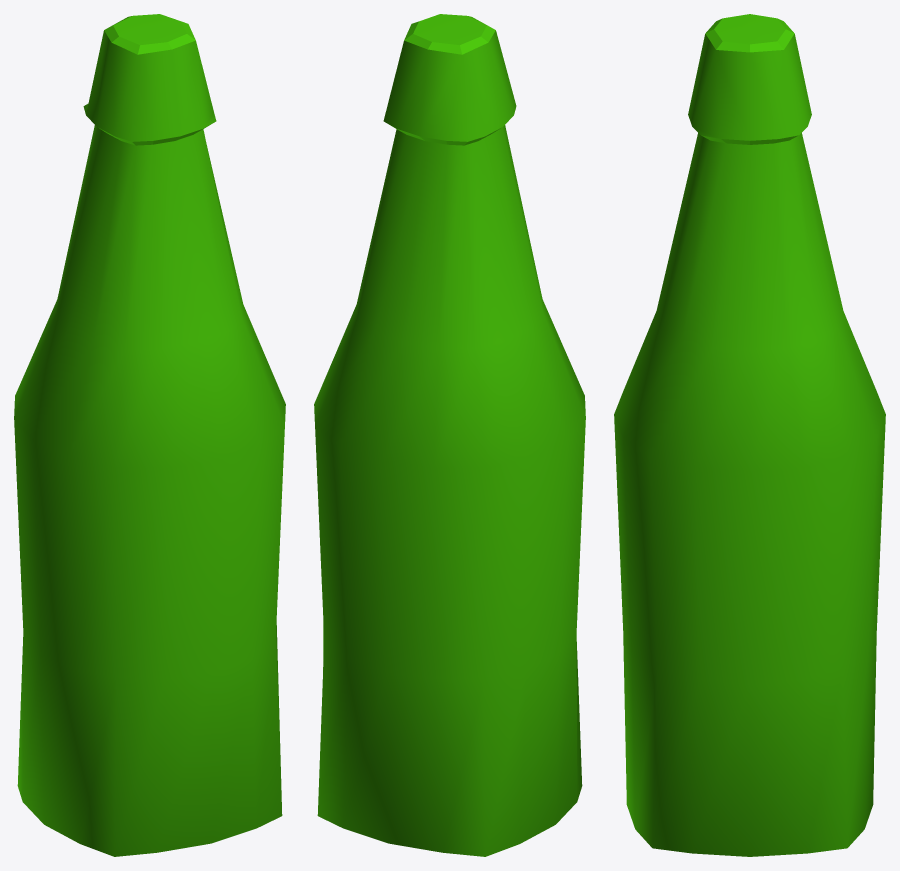
The model's file is beer_v01.fbx.
3 renders of one model, left to right at view 1: azimuth 30°, elevation 25°; view 2: azimuth 150°, elevation 25°; view 3: azimuth 270°, elevation 25°, orthographic.
Parts seen in each view (by area): view 1: pCube63; view 2: pCube63; view 3: pCube63.
Part boxes in pixels (x1,y1,x2,y2): pCube63: (14, 14, 285, 856); pCube63: (314, 14, 585, 856); pCube63: (614, 14, 885, 856).
Bounding box in the file's own units: 9.7 × 30.62 × 9.7.
